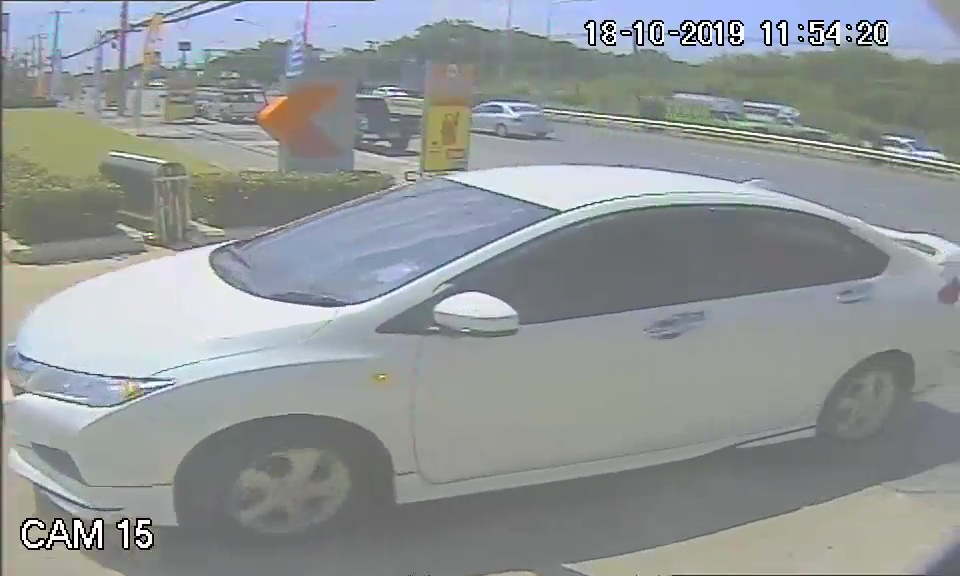sedan: (13, 159, 960, 523)
